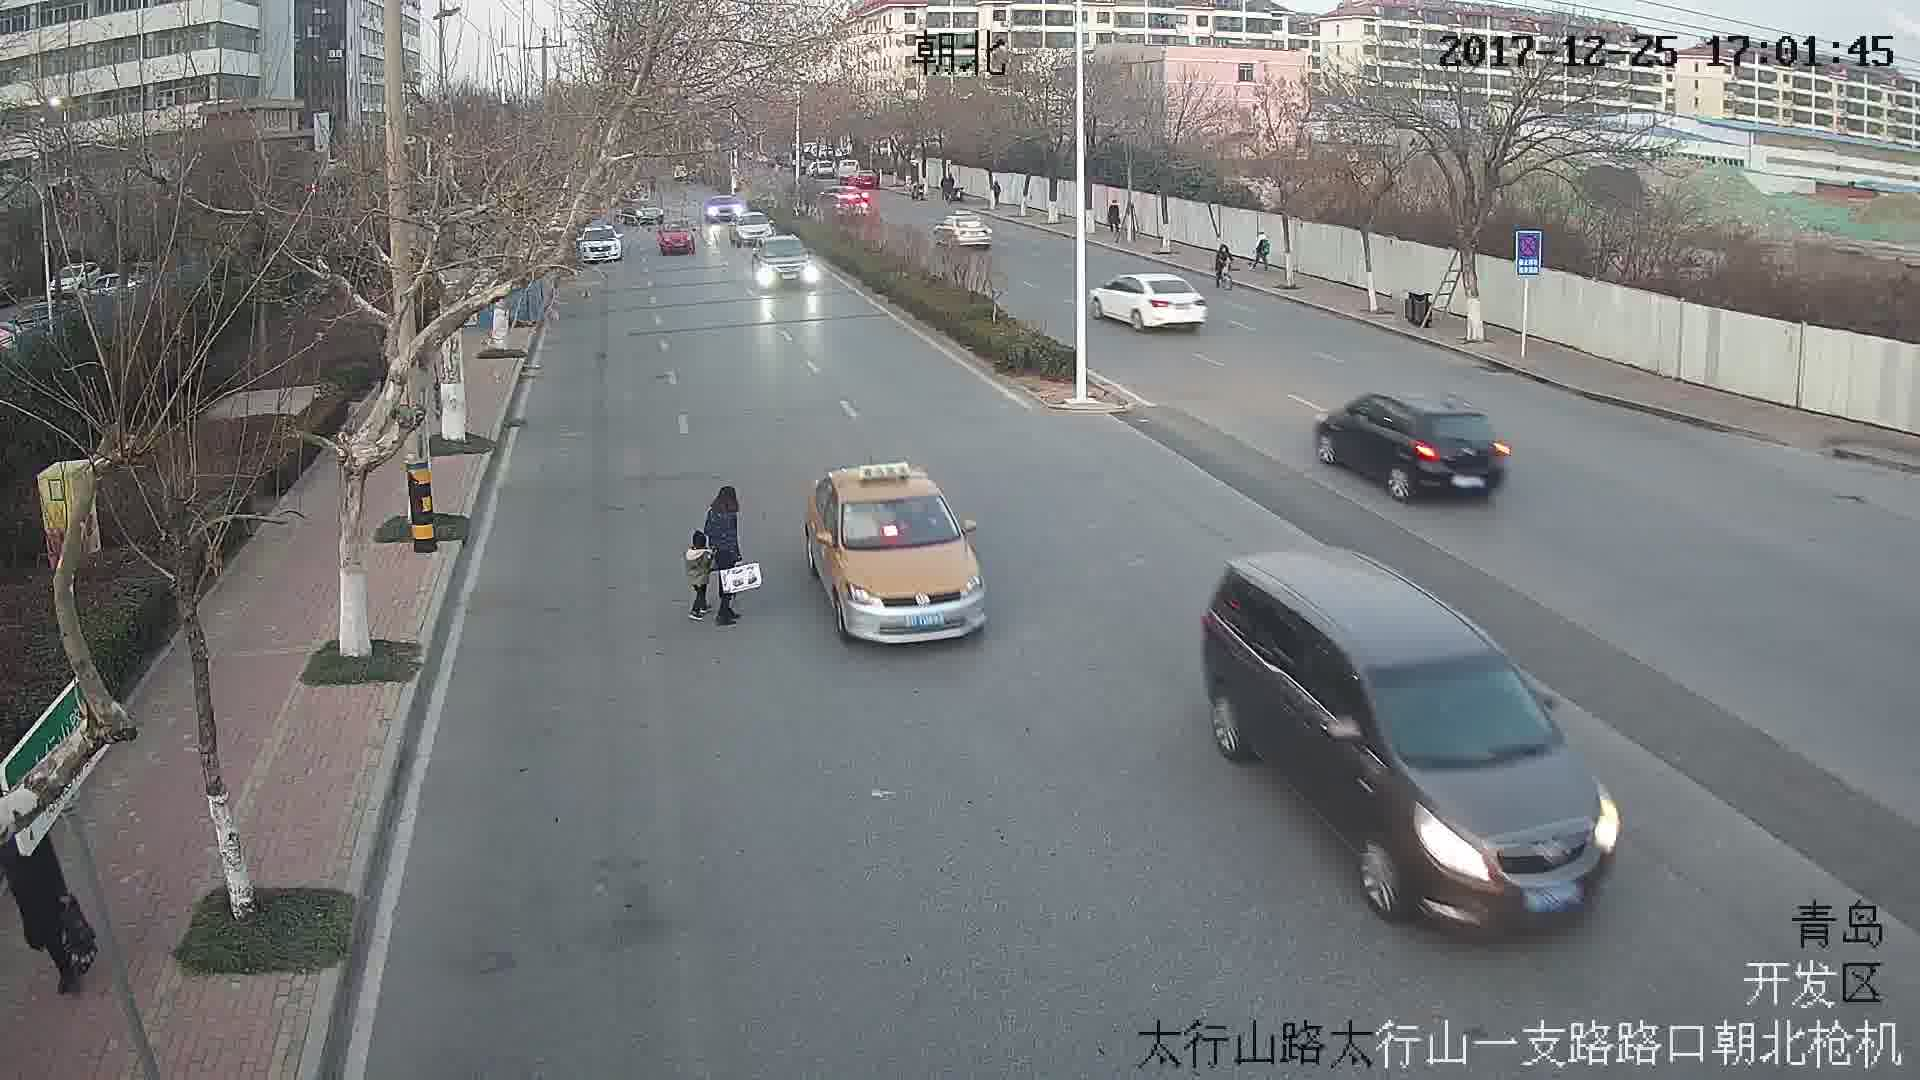car: (1205, 557, 1616, 932), (809, 467, 996, 648), (1323, 388, 1520, 502), (1093, 271, 1207, 331), (752, 237, 816, 292), (935, 213, 991, 248), (578, 224, 621, 264), (659, 221, 693, 256)
person: (710, 481, 755, 625), (685, 534, 714, 621), (1207, 241, 1235, 289), (1255, 234, 1275, 269)
